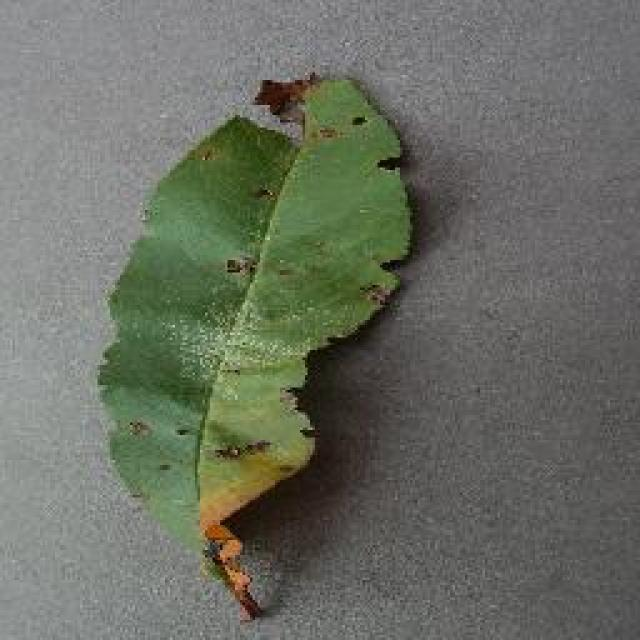Peach_Bacterial_Spot: (215, 57, 367, 360)
